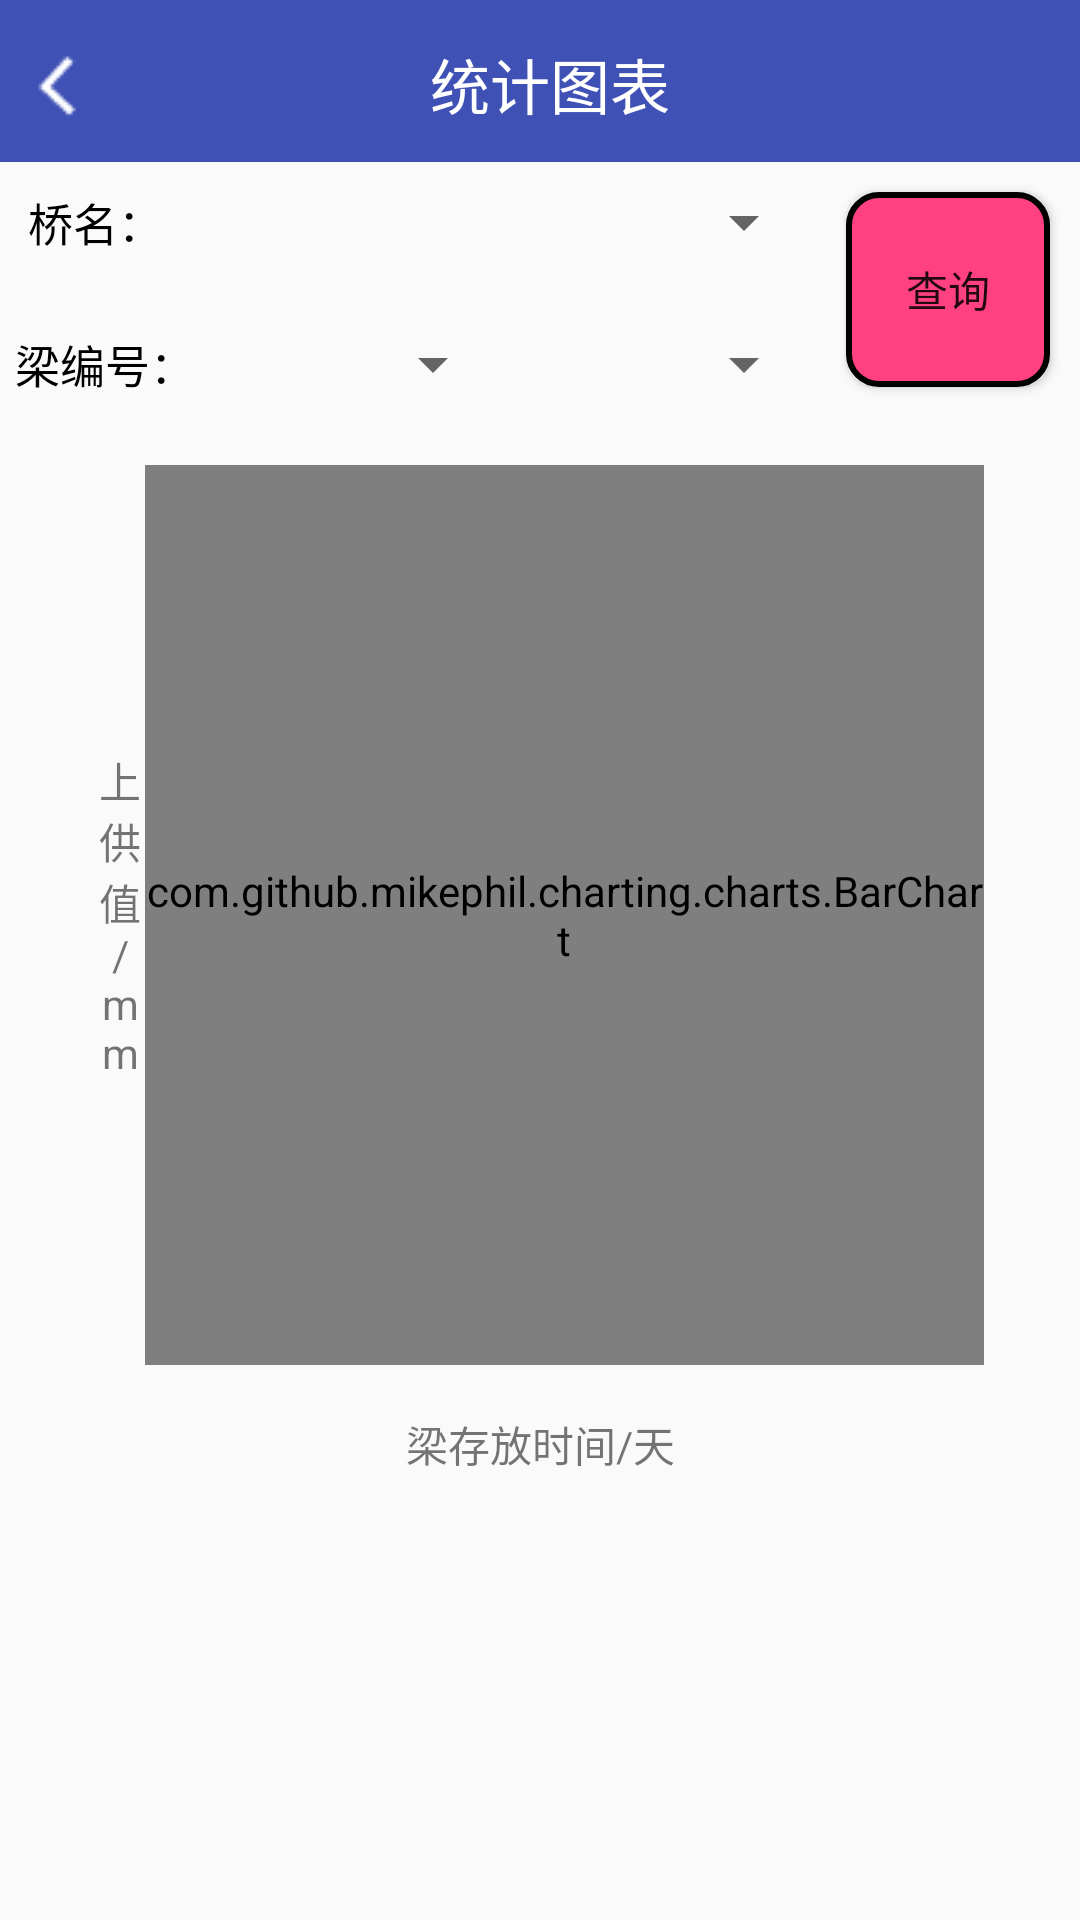

Where icons sit on this 1080px x 1920px app screen, as (x1, y1, x2, y2):
back: (39, 56, 76, 115)
